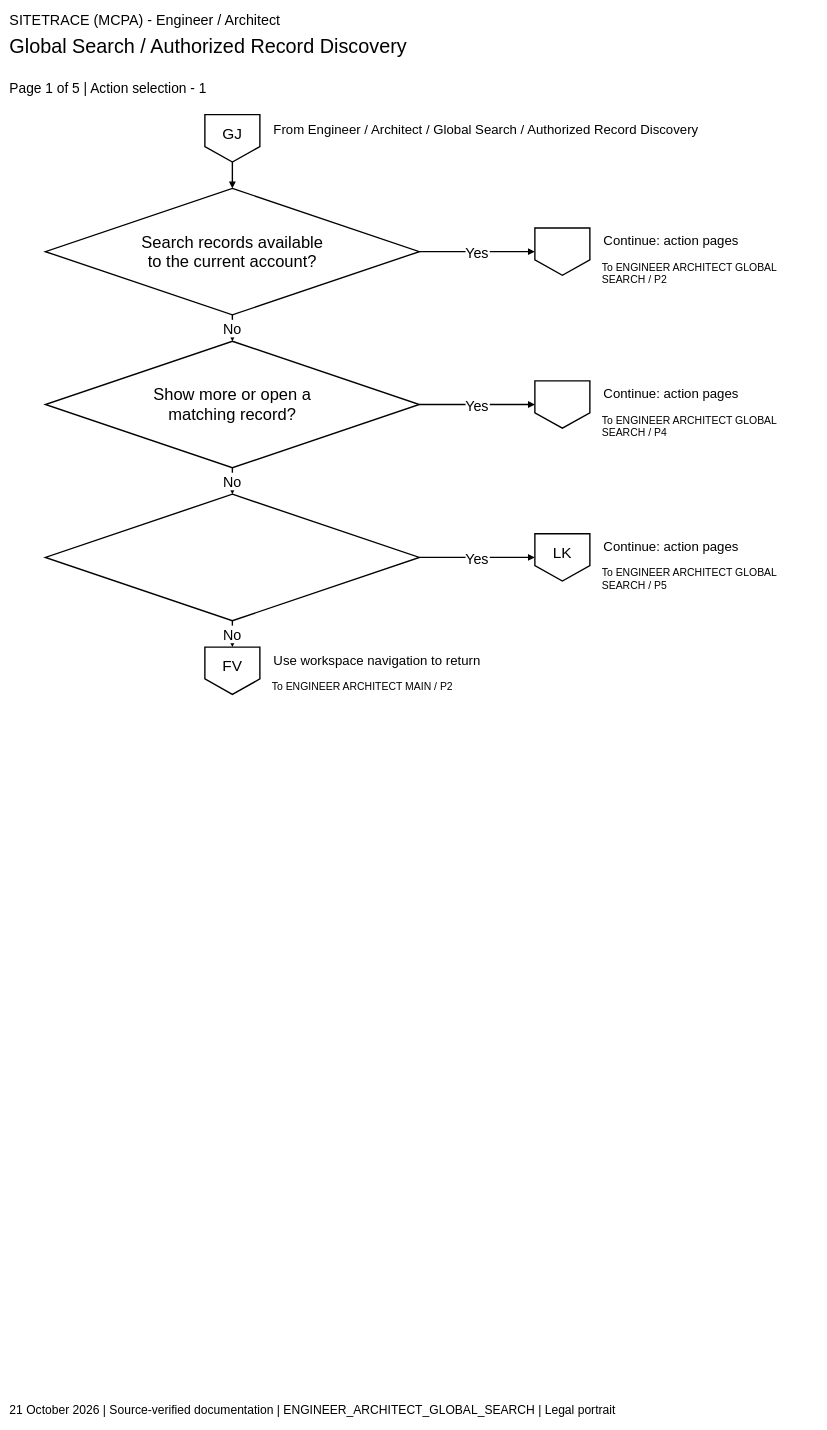
The diagram is 827 pixels wide and 1430 high, and some of its shapes have lost their labels. Here are the shapes that lost their labels. From the top down, the centre of each, then its label:
(x=562, y=251): LI
(x=562, y=404): LJ
(x=232, y=557): Clear or close search?
